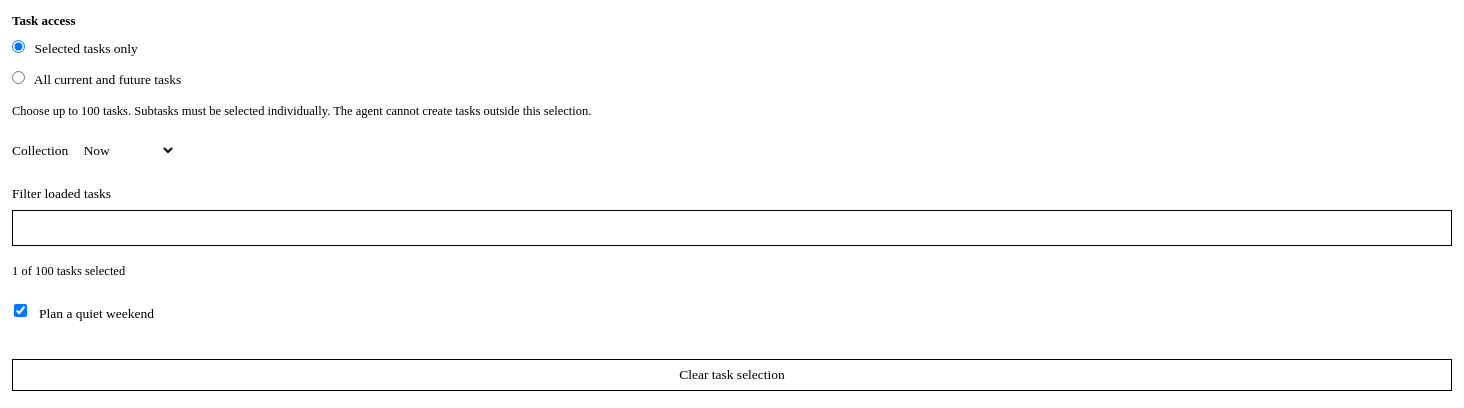
Test: bounded, deliberate task selection › filters loaded tasks without issuing new search requests
Expected: the checkbox labelled "Plan a quiet weekend" is shown, [14,304,27,317]
Type "no-match" into the field labelled "Filter loaded tasks" at [732, 228], box [12,210,1452,246]
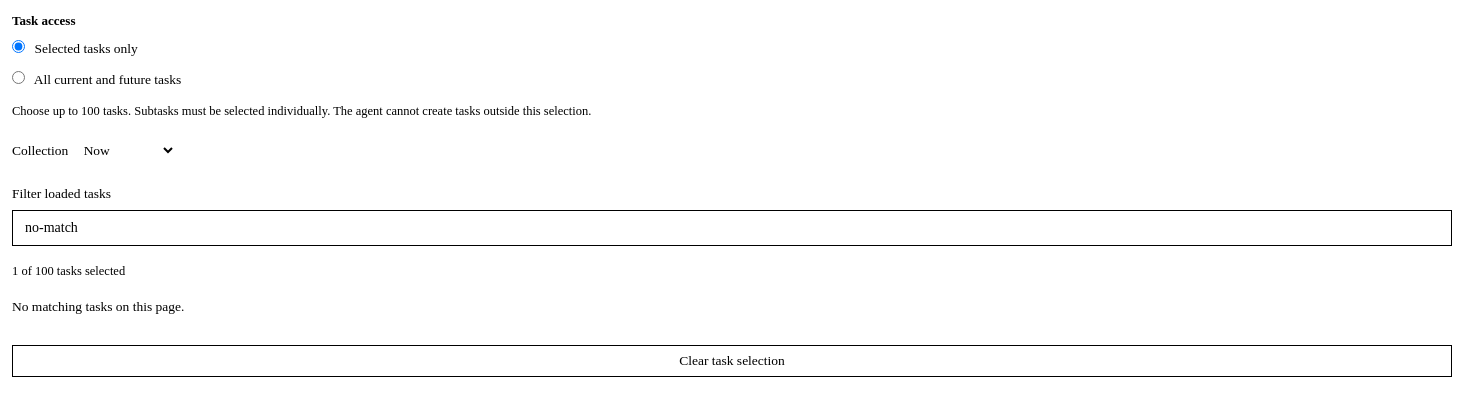
Now the text "No matching tasks on this page." is shown, box [12,299,184,314]
